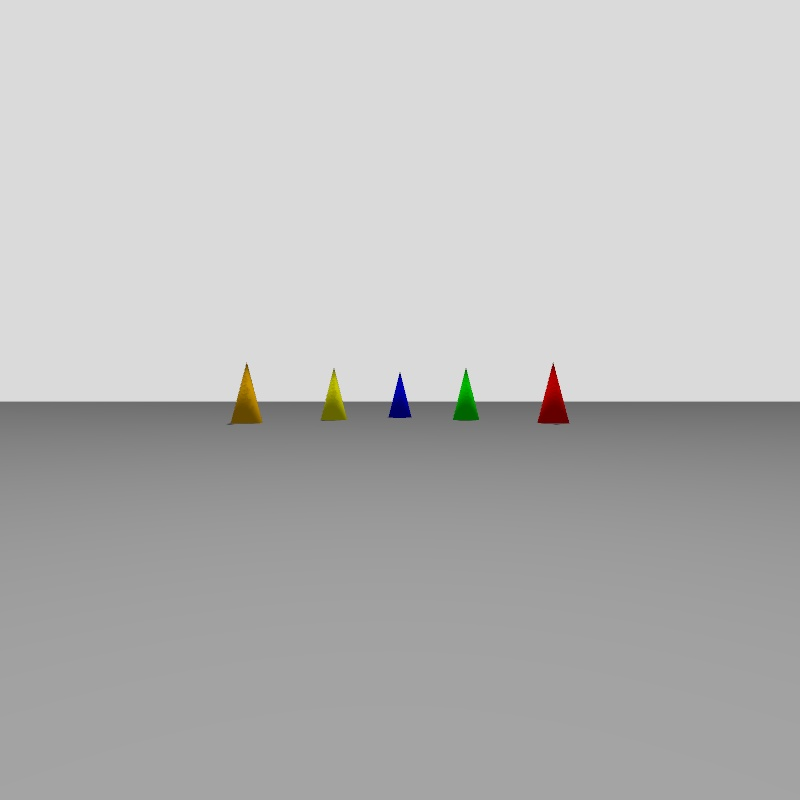Blue_cone: (388, 373, 410, 417)
Green_cone: (454, 369, 479, 420)
Orange_cone: (230, 364, 262, 423)
Red_cone: (539, 364, 568, 423)
Yellow_cone: (322, 369, 346, 420)
